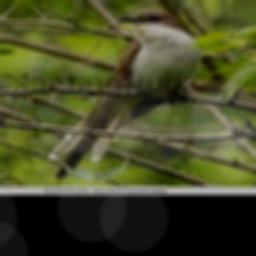Cuckoo: (46, 8, 200, 178)
